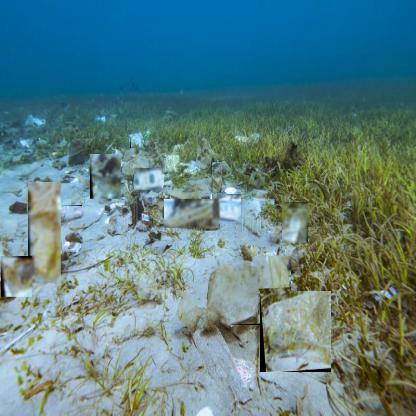waste: (260, 291, 332, 373), (208, 256, 292, 326), (29, 182, 62, 284), (164, 199, 220, 229), (90, 154, 122, 200), (1, 256, 33, 298), (282, 202, 309, 244), (212, 194, 242, 223), (134, 168, 163, 191), (59, 205, 83, 220), (212, 162, 222, 194), (130, 135, 142, 149)
